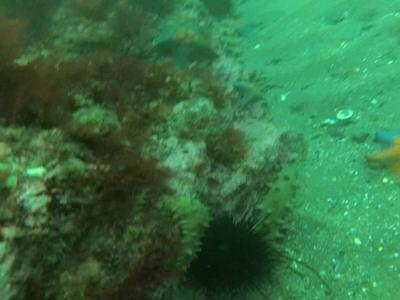holothurian: (163, 178, 207, 273), (256, 164, 294, 250)
urchin: (191, 218, 266, 289)
